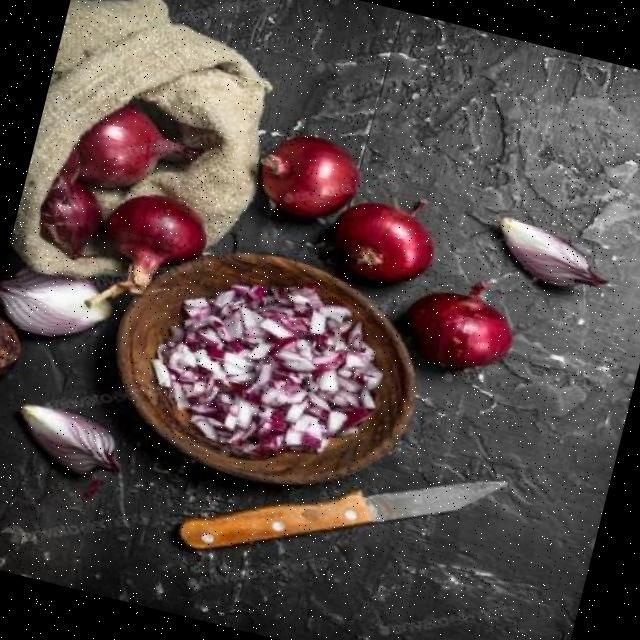Onion: (87, 195, 206, 306), (77, 107, 199, 187), (409, 283, 513, 370), (334, 200, 434, 283), (260, 136, 360, 218)
